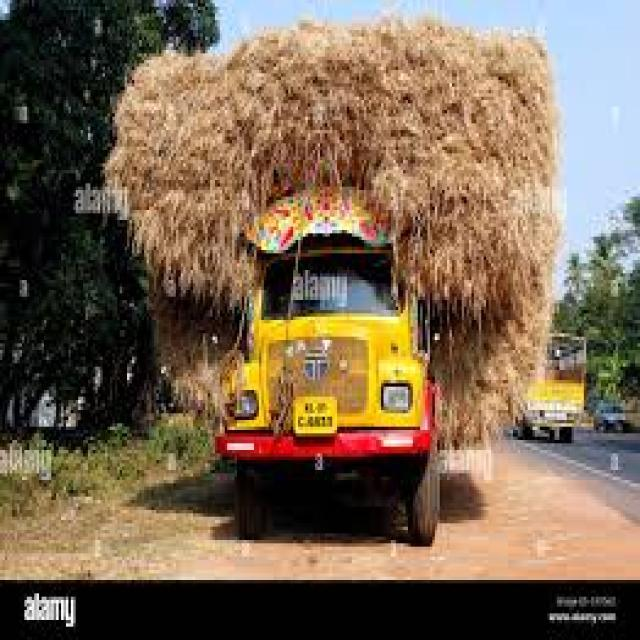uncovered: (114, 18, 560, 544)
